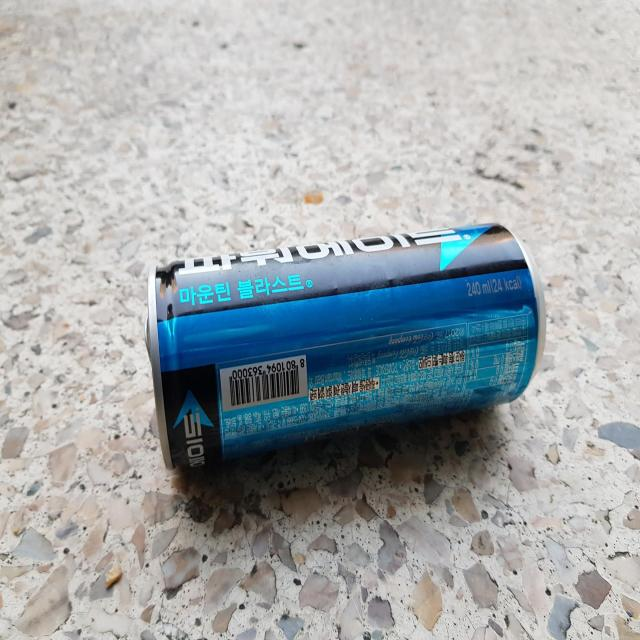can: (145, 224, 547, 469)
